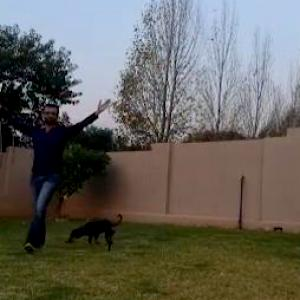takeoff: (0, 94, 124, 250)
